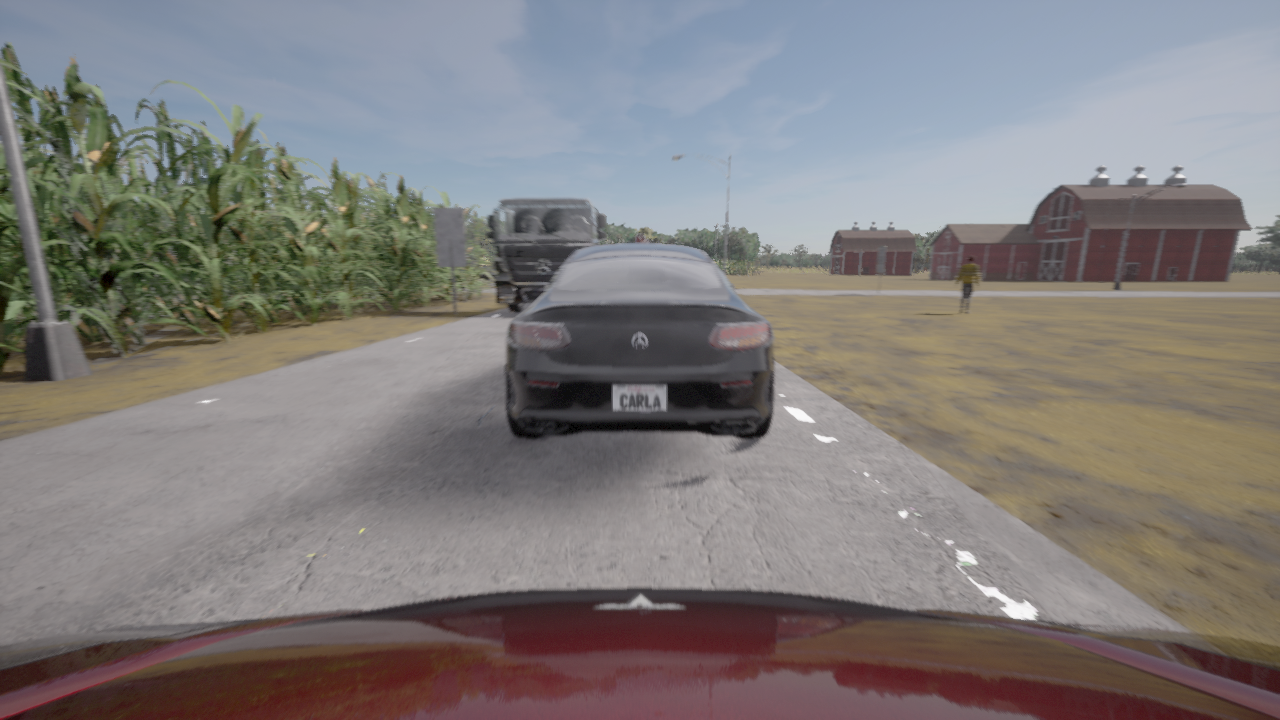cyclist: (0, 588, 1279, 719), (506, 244, 774, 438), (487, 197, 606, 312), (456, 266, 496, 288)
pedestrian: (955, 255, 979, 313), (637, 234, 645, 243), (644, 239, 650, 243)
